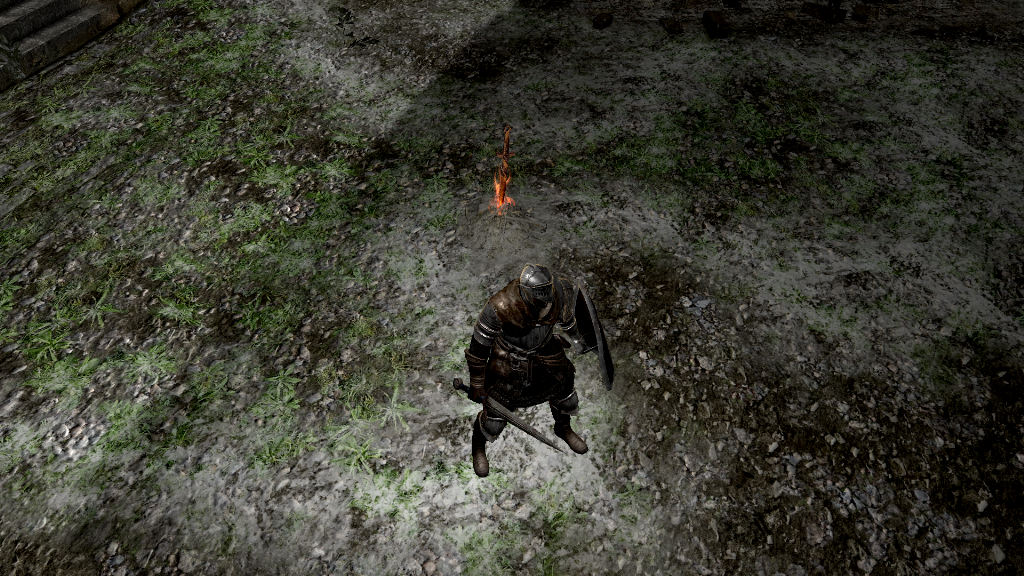bonfire: (482, 123, 527, 226)
player: (452, 264, 618, 477)
